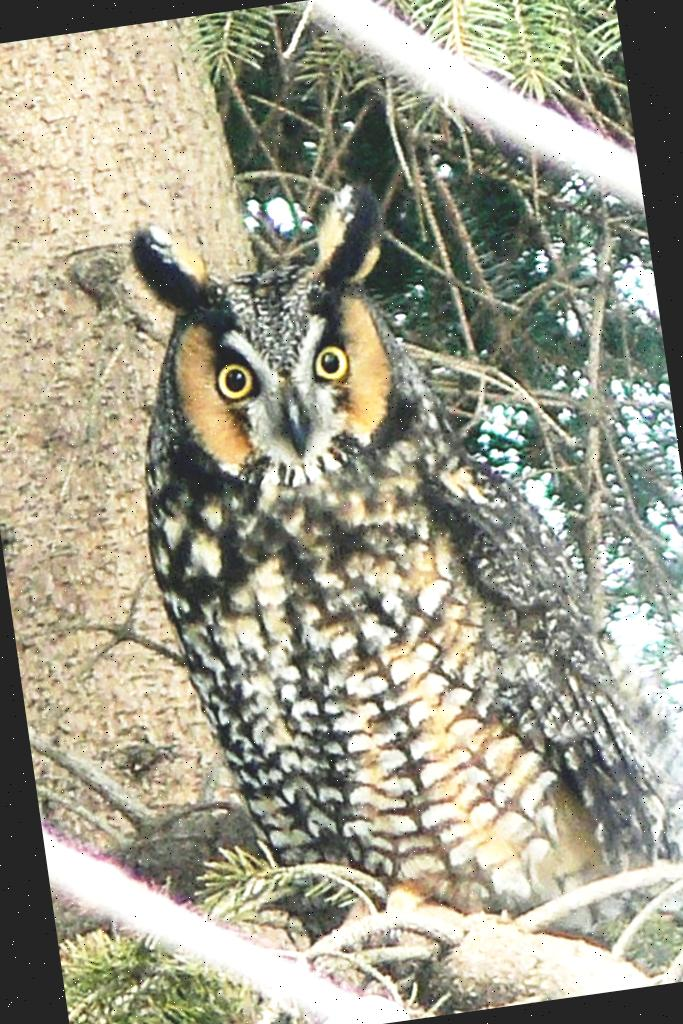Owl: (95, 137, 683, 980)
